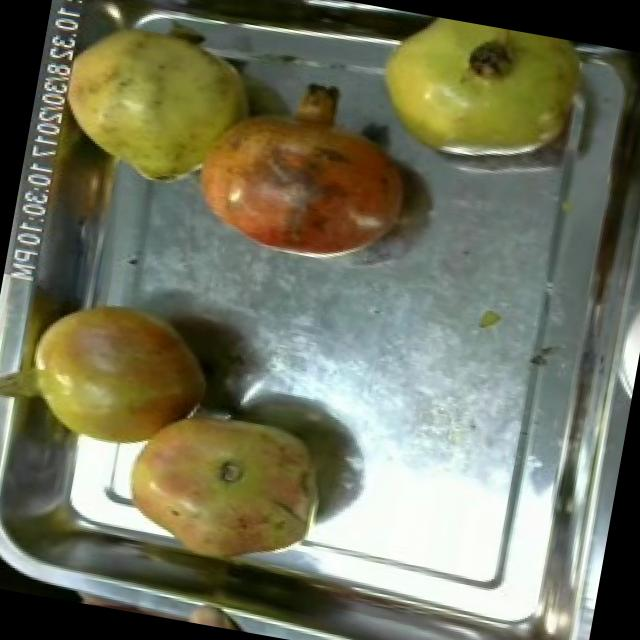fruit: (172, 55, 445, 288), (347, 5, 616, 196), (27, 0, 275, 205), (104, 384, 346, 586), (6, 280, 232, 472)
